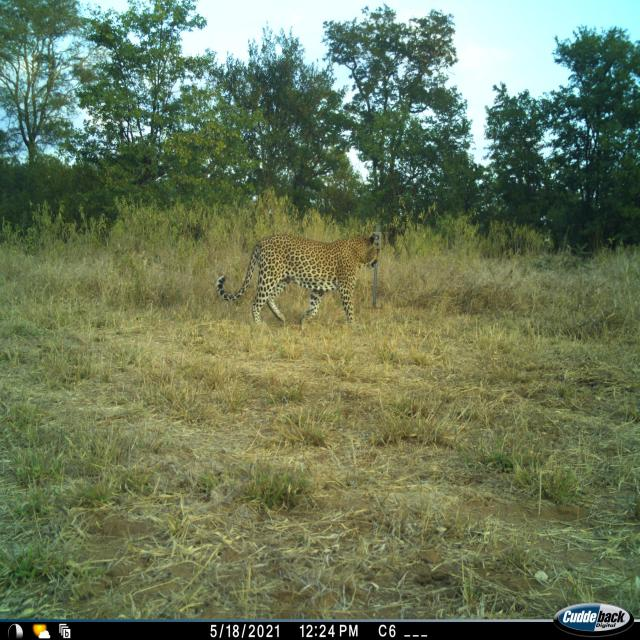Leopard: (210, 234, 394, 334)
